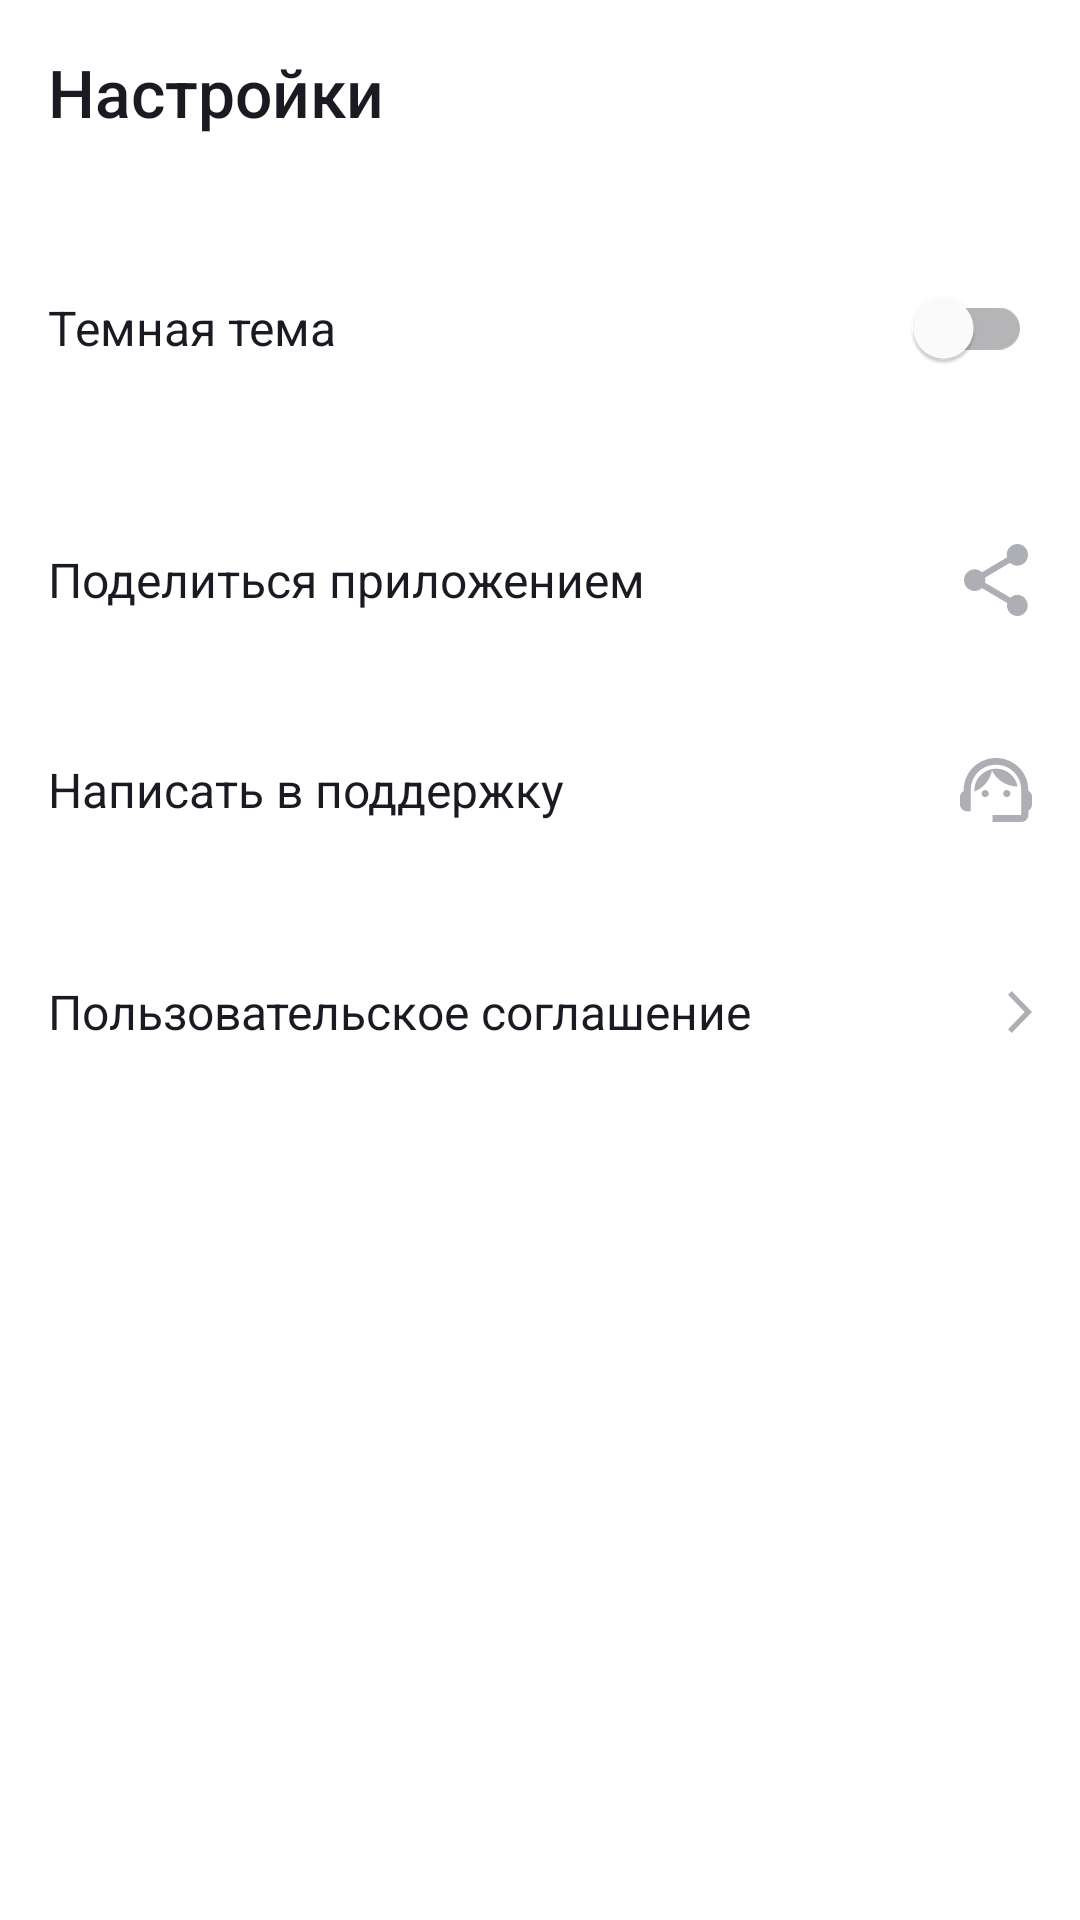

Icons on this 1080*1920 Android screen, each with the point to tap as point (x, y):
Перейти: point (1020, 1012)
Поддержка: point (996, 790)
